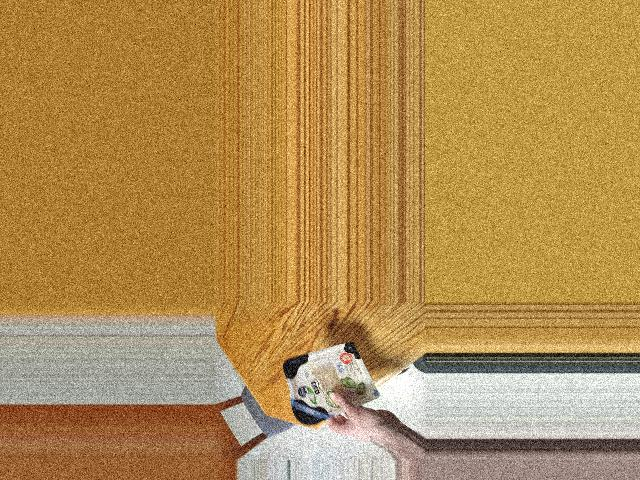cheese: (281, 343, 364, 427)
